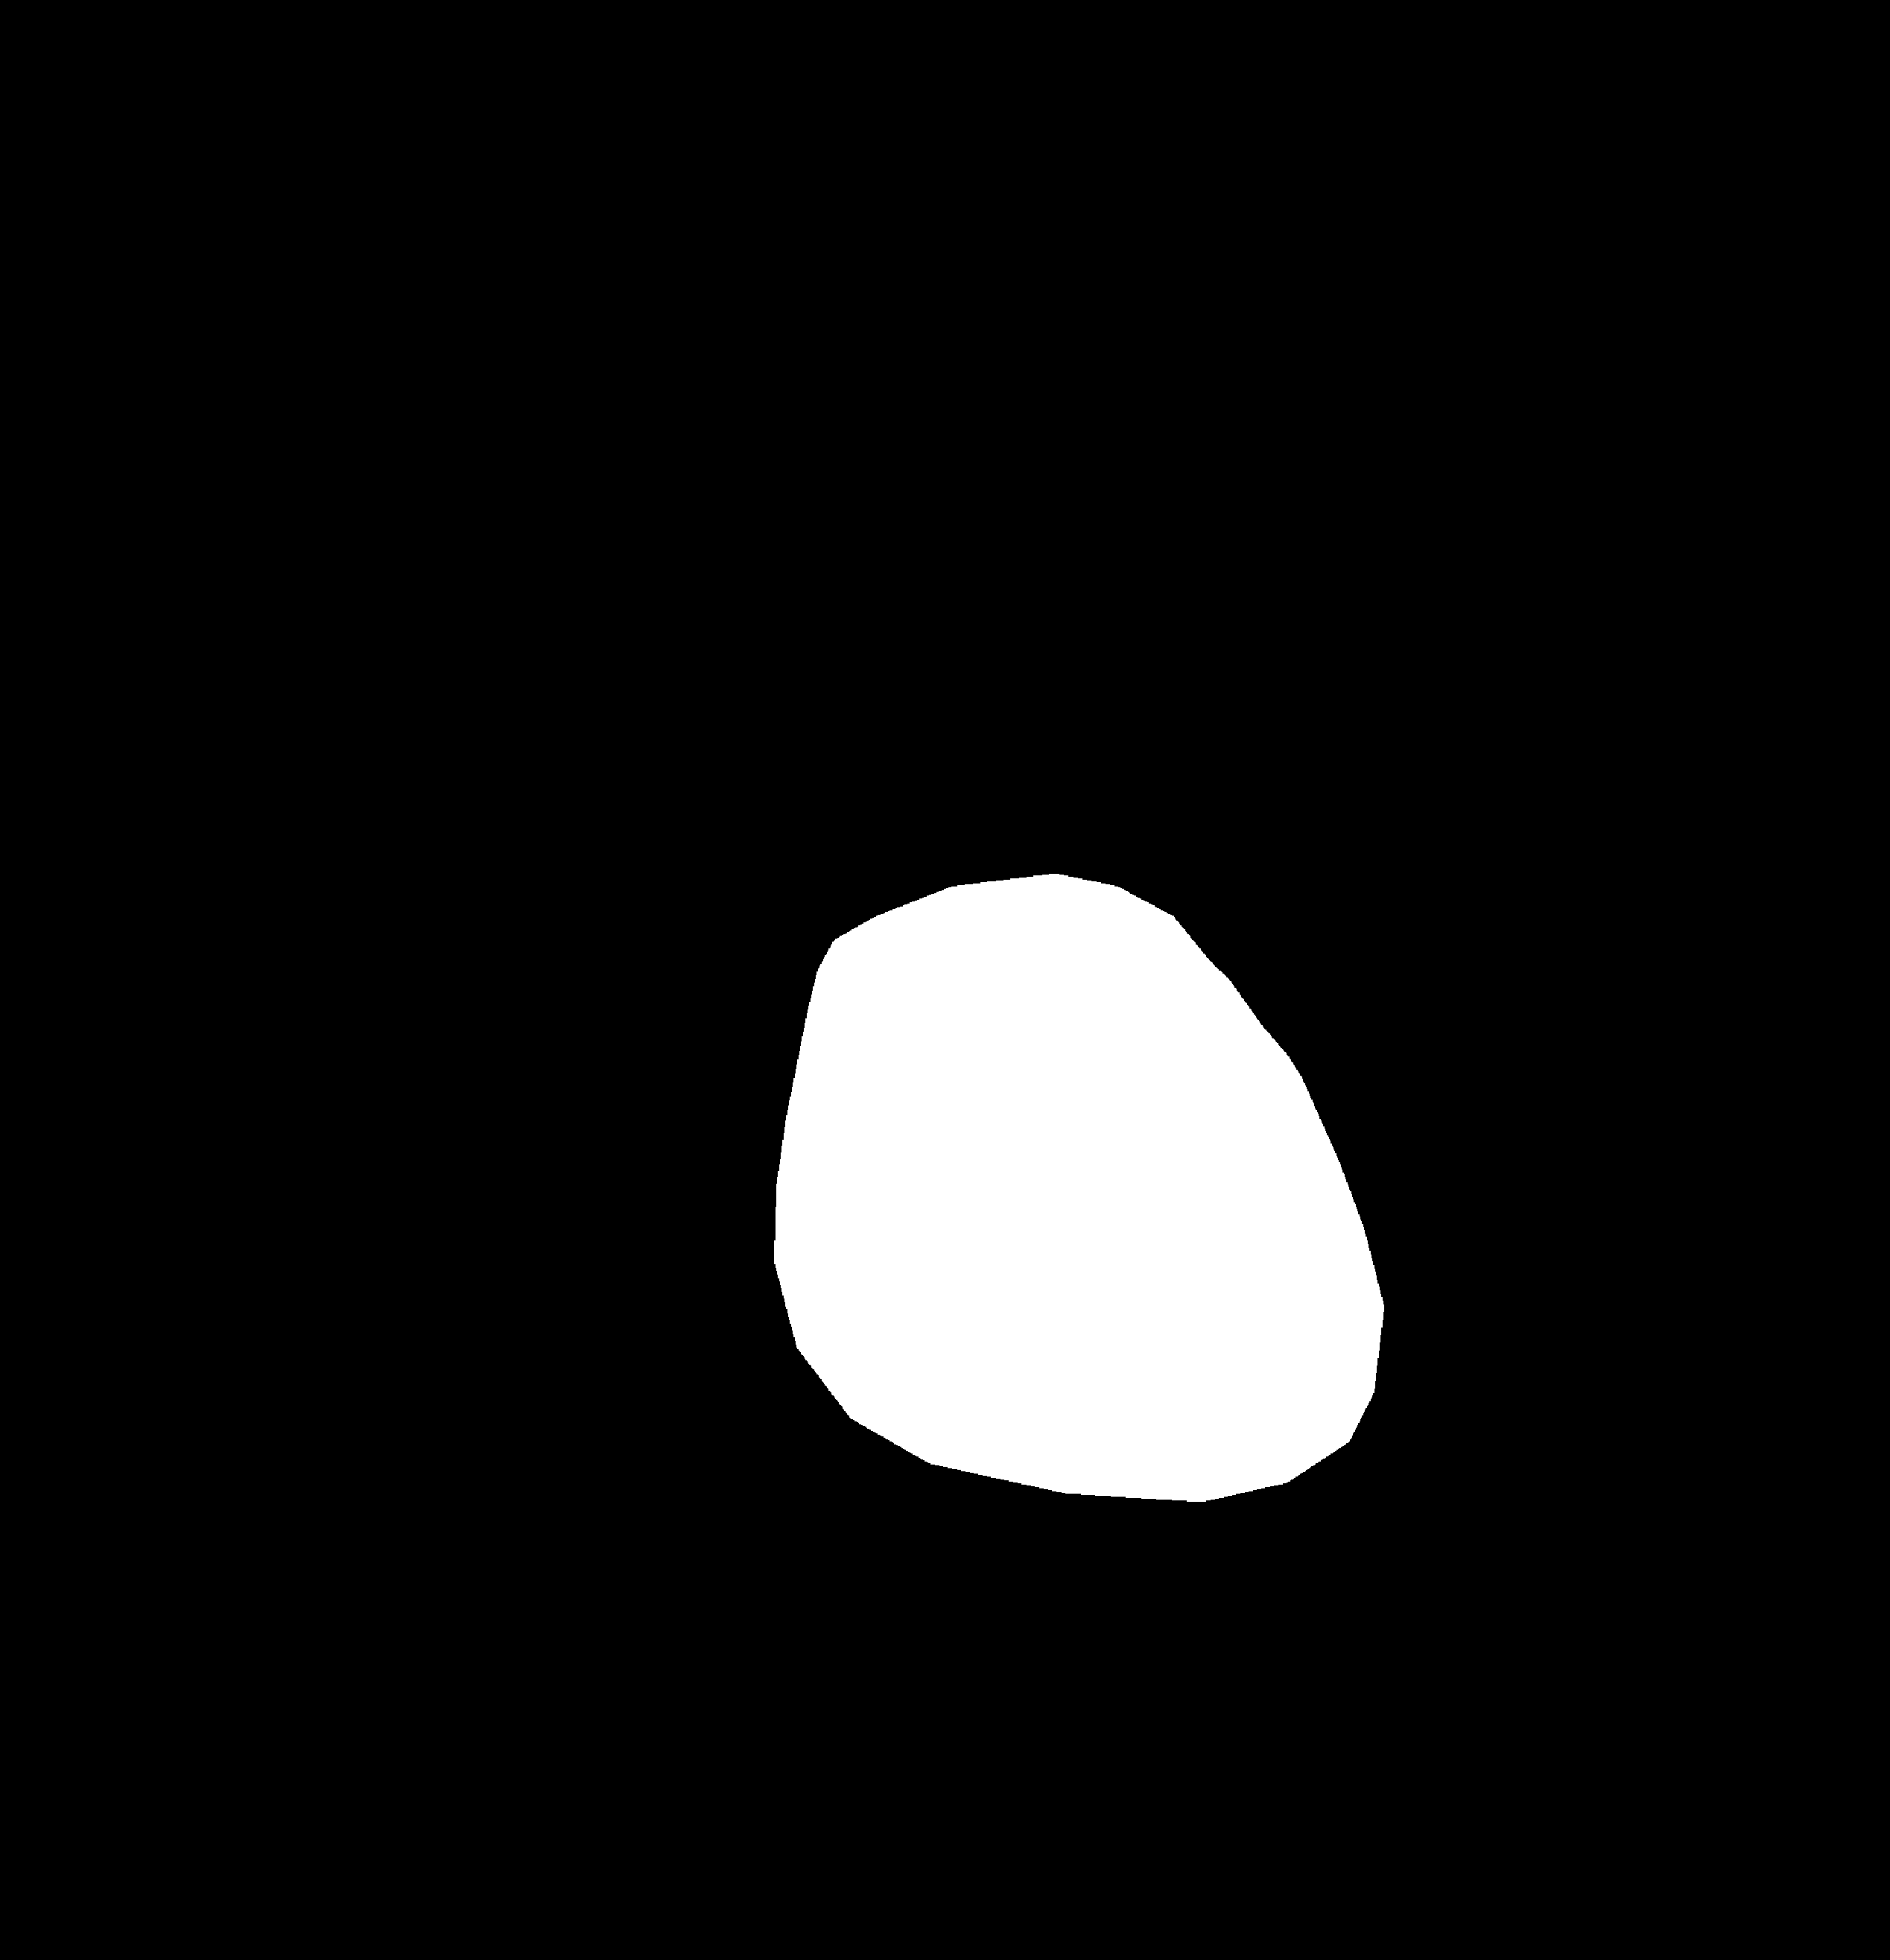heart: (782, 959, 1388, 1508)
left_lung: (250, 131, 861, 1766)
right_lung: (1045, 121, 1648, 1720)
